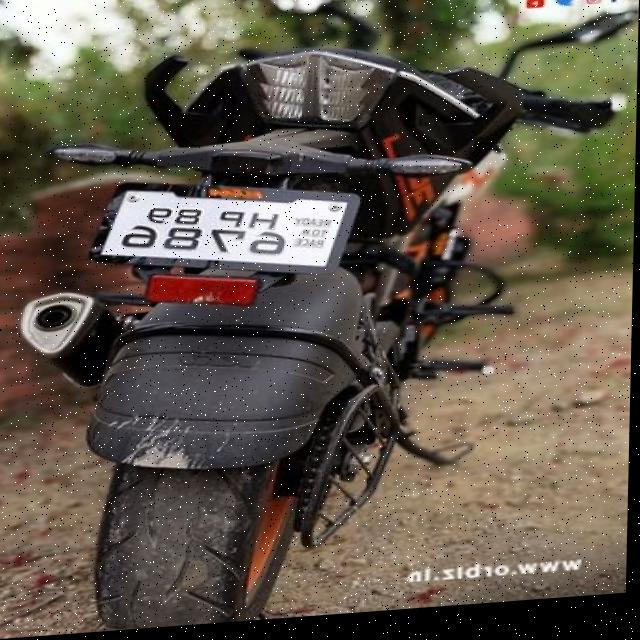plate: (104, 176, 349, 292)
